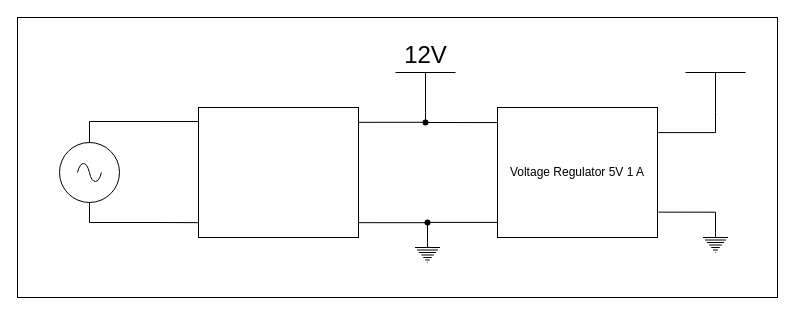
Some shapes in this 795 by 315 pixel diagram are drawn without their labels. Each missing label, with the box of its shape:
5V: (684, 72, 746, 112)
AC to DC converter: (198, 106, 358, 238)
